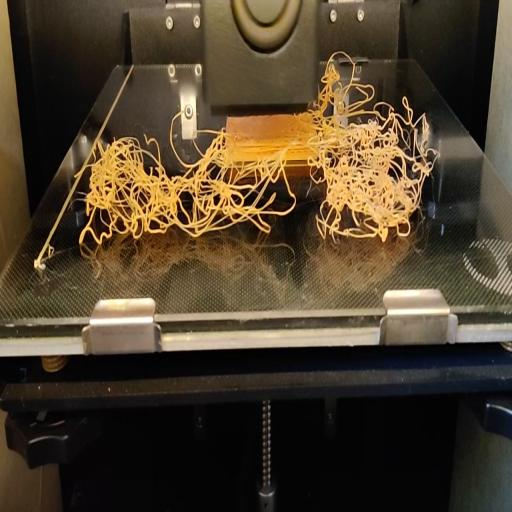spaghetti: (70, 106, 439, 259), (319, 48, 409, 107)
